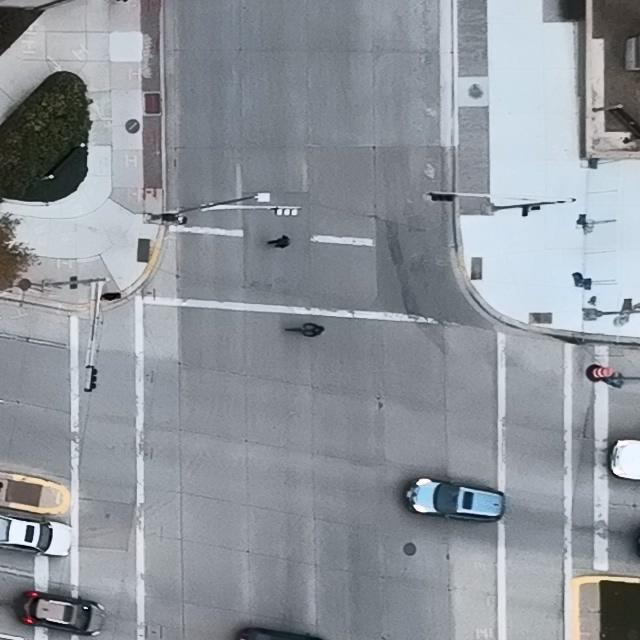car: (404, 477, 504, 521), (15, 592, 105, 636), (0, 513, 75, 558), (609, 439, 640, 482)
